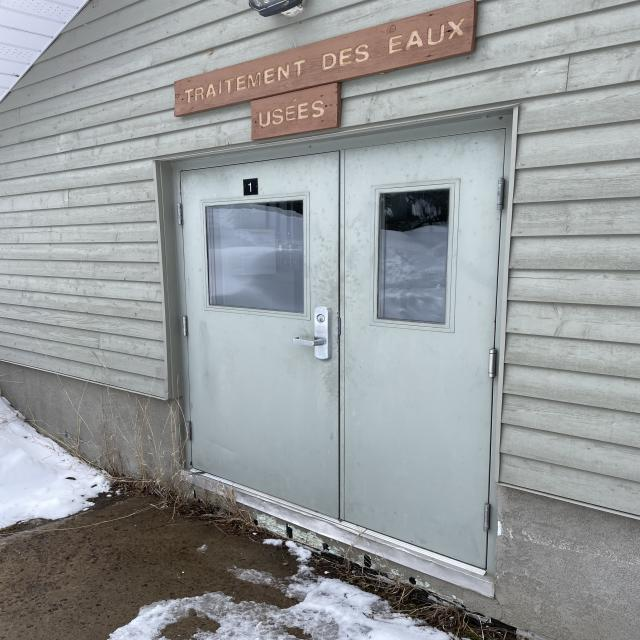door-handle: (293, 337, 324, 346)
